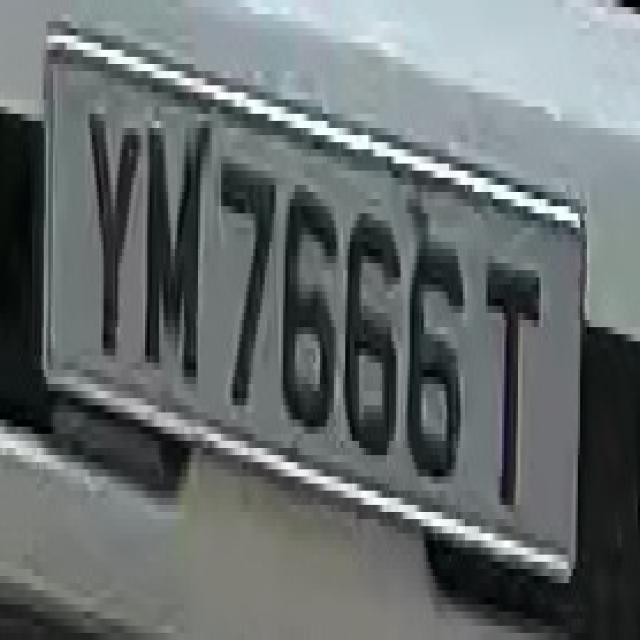6: (338, 170, 403, 477), (403, 213, 463, 512), (281, 178, 338, 462)
7: (210, 114, 276, 455)
M: (133, 100, 210, 391)
T: (479, 235, 550, 548)
Y: (83, 78, 140, 363)
